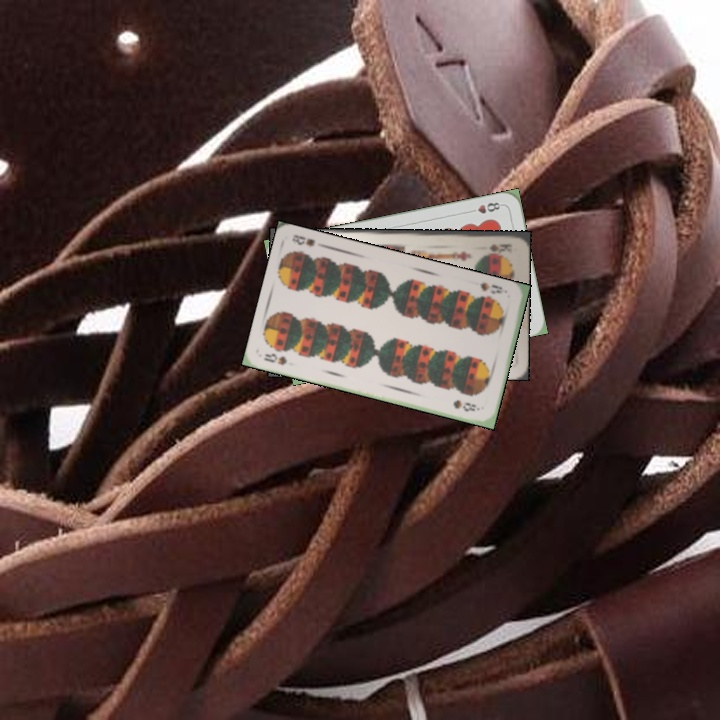H8: (465, 198, 505, 216)
S8: (475, 278, 510, 296), (260, 349, 290, 368)
SK: (485, 240, 514, 254)
